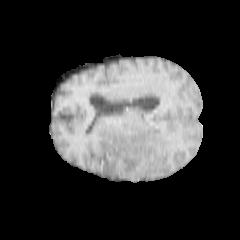glioma: (91, 121, 172, 179)
